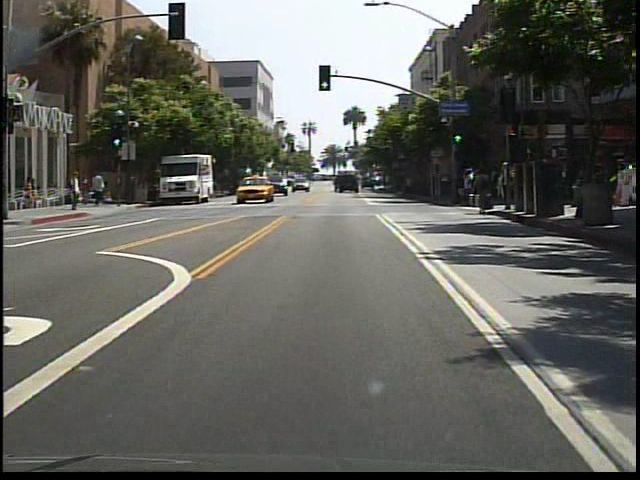person: (470, 163, 493, 218), (68, 169, 84, 214), (92, 169, 108, 206), (25, 176, 41, 211), (80, 174, 93, 205)
